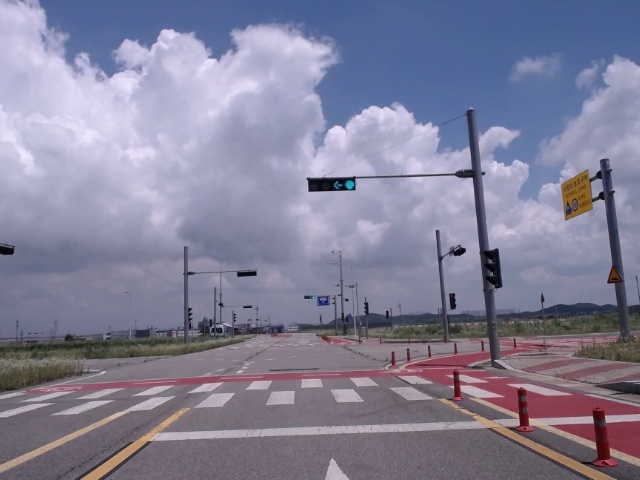all_green_4: (310, 178, 361, 192)
